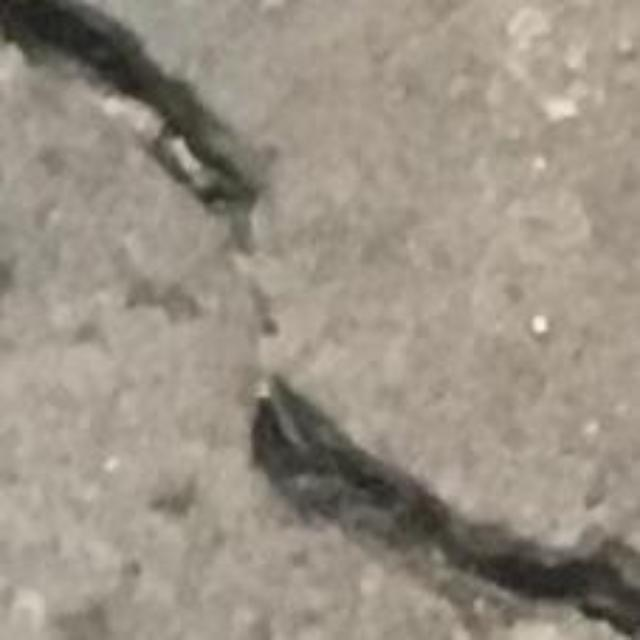crack: (251, 375, 639, 639)
